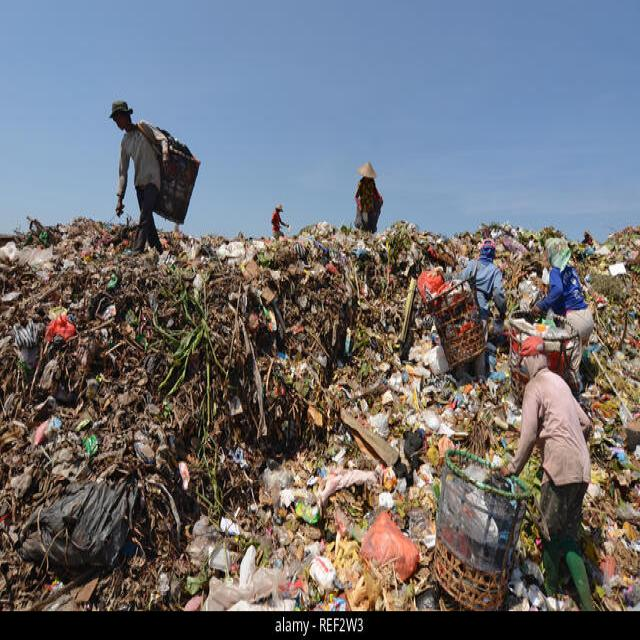trash: (36, 245, 334, 447), (33, 487, 133, 567)
